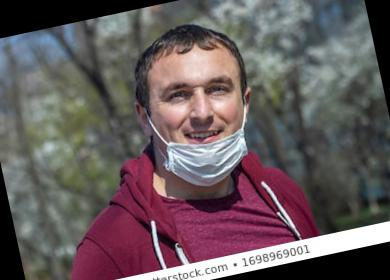mask_weared_incorrect: (147, 62, 257, 187)
